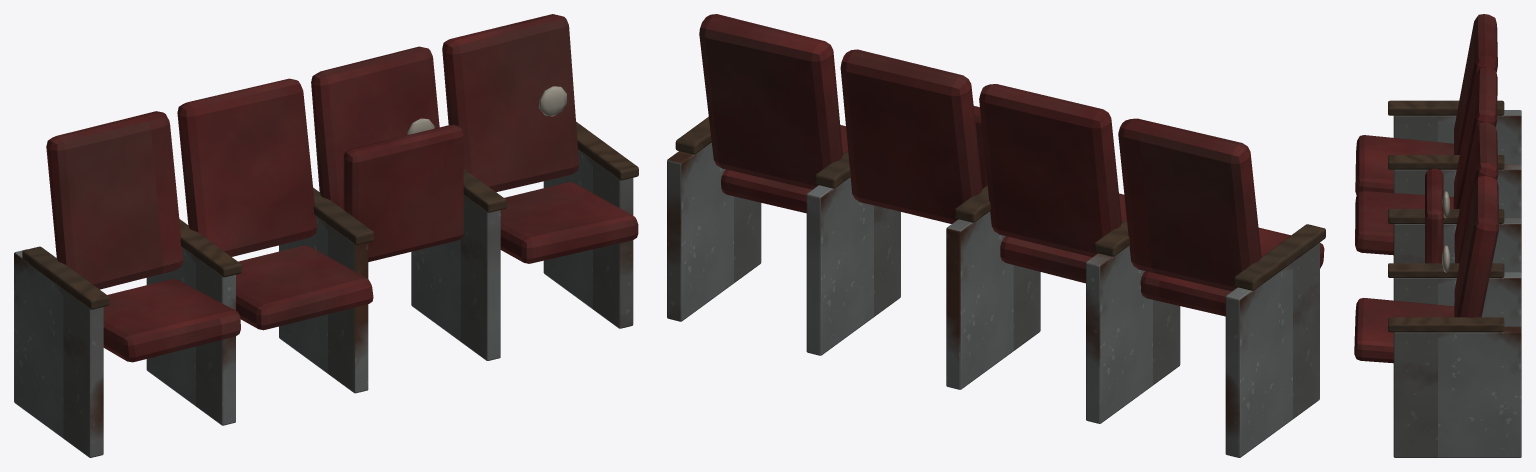
The model's file is Q01_cinema_seat_row_v2.glb.
3 renders of one model, left to right at view 1: azimuth 30°, elevation 25°; view 2: azimuth 150°, elevation 25°; view 3: azimuth 270°, elevation 25°, orthographic. The views are drawn at different scales.
Parts seen in each view (by area): view 1: Q01_cinema_seat_row_v2; view 2: Q01_cinema_seat_row_v2; view 3: Q01_cinema_seat_row_v2.
Boxes of the visible parts, left/top/right/bottom form: Q01_cinema_seat_row_v2: left=14, top=14, right=638, bottom=457; Q01_cinema_seat_row_v2: left=667, top=14, right=1325, bottom=457; Q01_cinema_seat_row_v2: left=1354, top=14, right=1521, bottom=457.
Size of the model in its own units: 2.5 by 1.21 by 0.7887.
4 materials, 4 textured.
